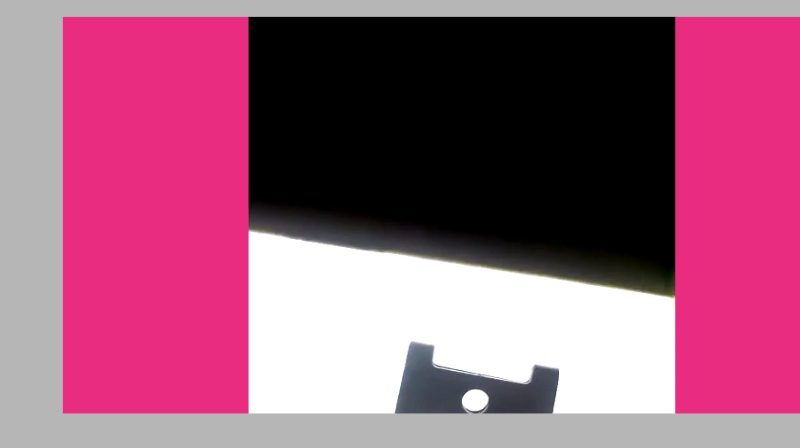O002: (387, 339, 563, 447)
